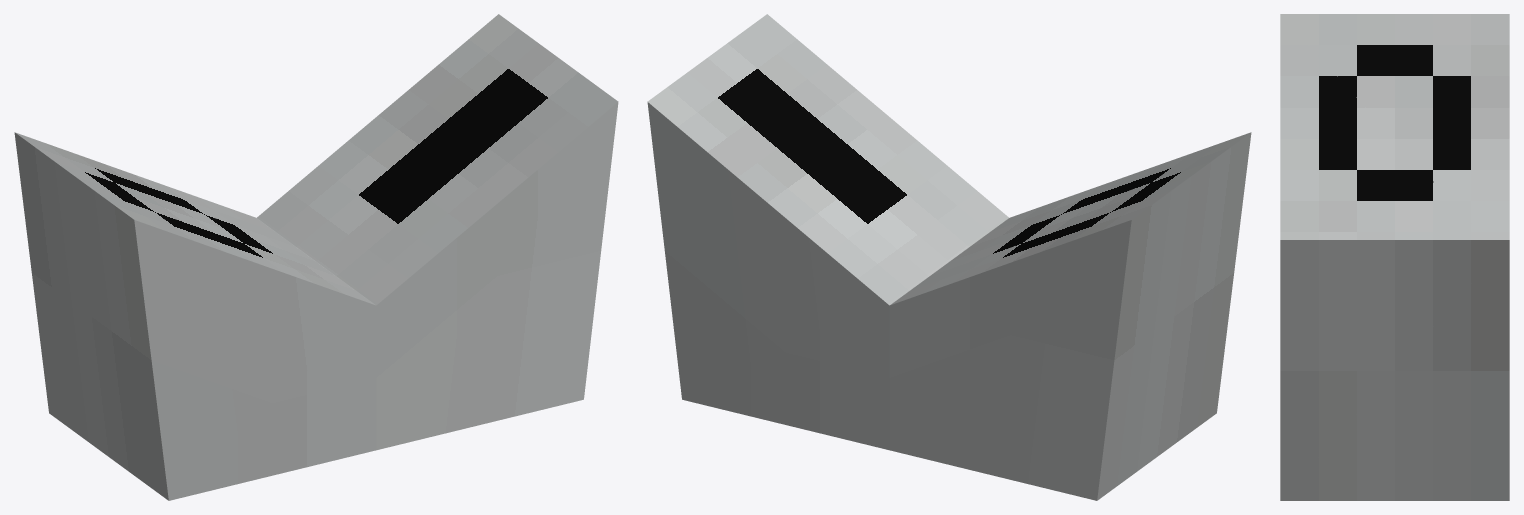
Rendered from panel_switch.gltf.
3 renders of one model, left to right at view 1: azimuth 30°, elevation 25°; view 2: azimuth 150°, elevation 25°; view 3: azimuth 270°, elevation 25°, orthographic. The views are drawn at different scales.
Visible parts, largest first — view 1: cuboid; view 2: cuboid; view 3: cuboid.
Part boxes in pixels (<box>): cuboid: <box>14,14,618,500</box>; cuboid: <box>647,14,1251,500</box>; cuboid: <box>1280,14,1509,500</box>.
Bounding box in the file's own units: 0.875 × 0.5 × 0.375.
Materials: 1 (1 with a texture image).
